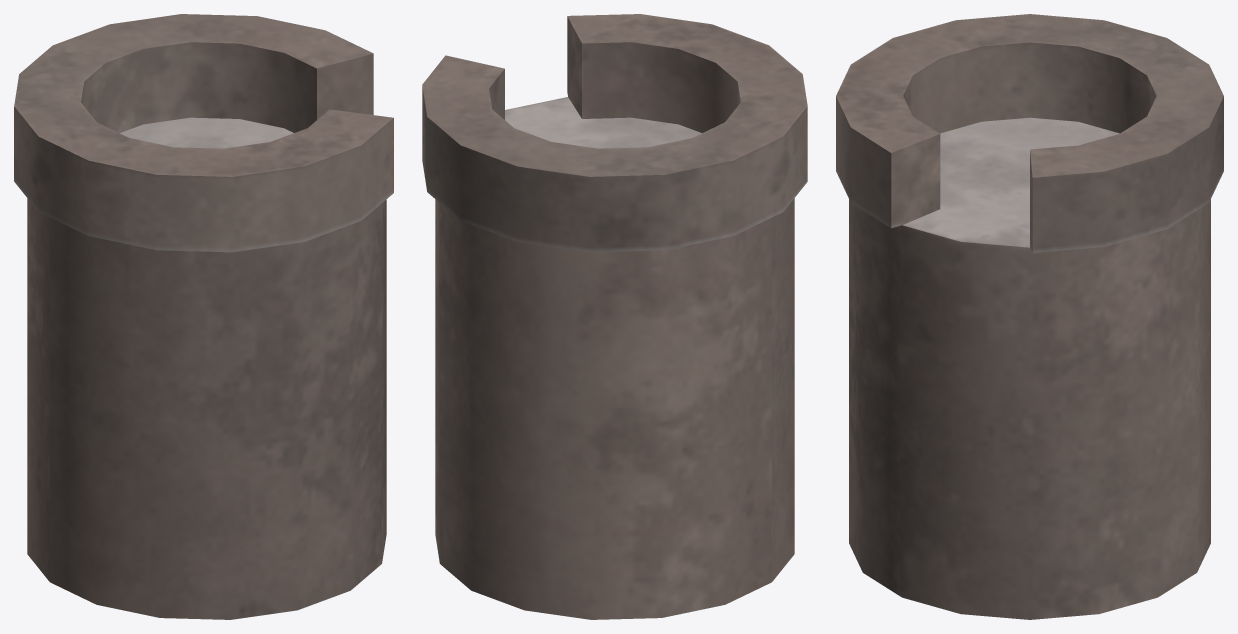
File: WallTower.fbx
3 renders of one model, left to right at view 1: azimuth 30°, elevation 25°; view 2: azimuth 150°, elevation 25°; view 3: azimuth 270°, elevation 25°, orthographic.
Visible parts, largest first — view 1: Walls Tower; view 2: Walls Tower; view 3: Walls Tower.
Boxes of the visible parts, x1,y1,x2,y2 form: Walls Tower: [14, 14, 393, 619]; Walls Tower: [422, 14, 807, 619]; Walls Tower: [836, 14, 1223, 619].
Size of the model in its own units: 390 by 497 by 391.
